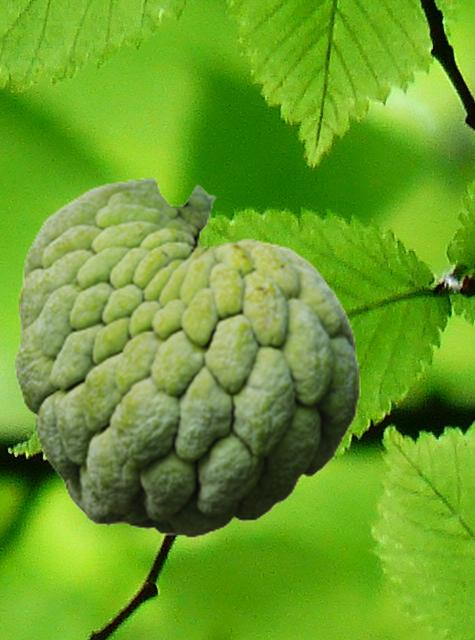atis: (15, 176, 359, 537)
